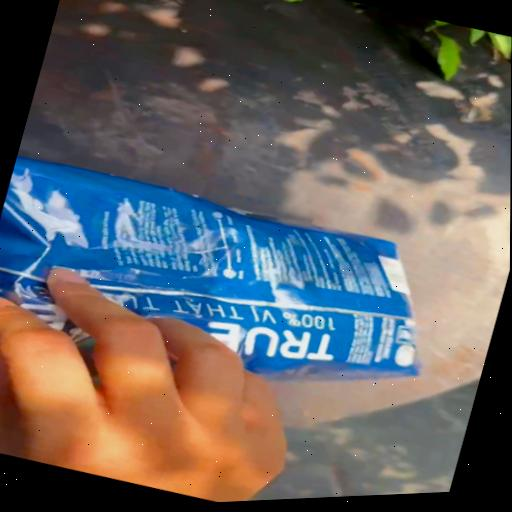cafe_hat: (0, 156, 418, 379)
